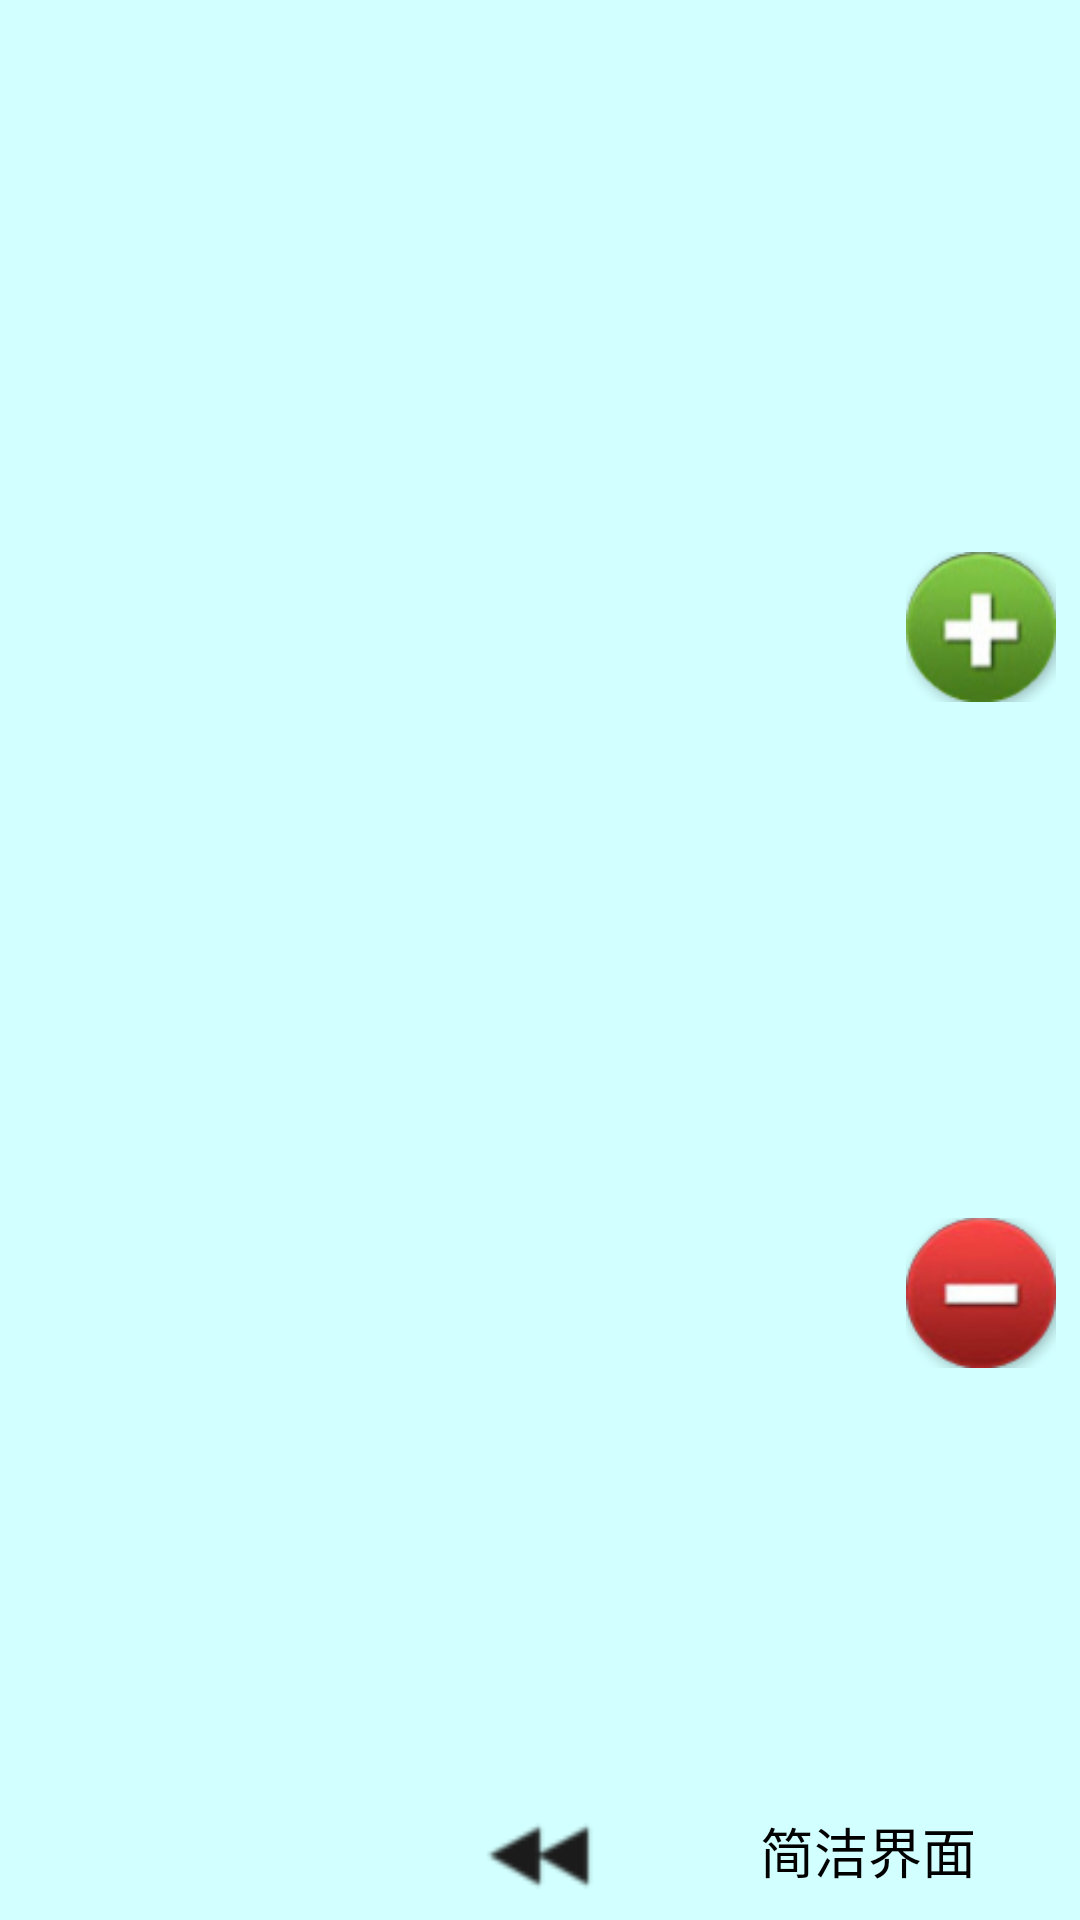

Locate icon controls on the screen. Image size 1080 x 1920, boxes as (x1, y1, x2, y2).
add: (906, 552, 1056, 702)
back: (488, 1826, 590, 1886)
minus: (906, 1218, 1056, 1368)
